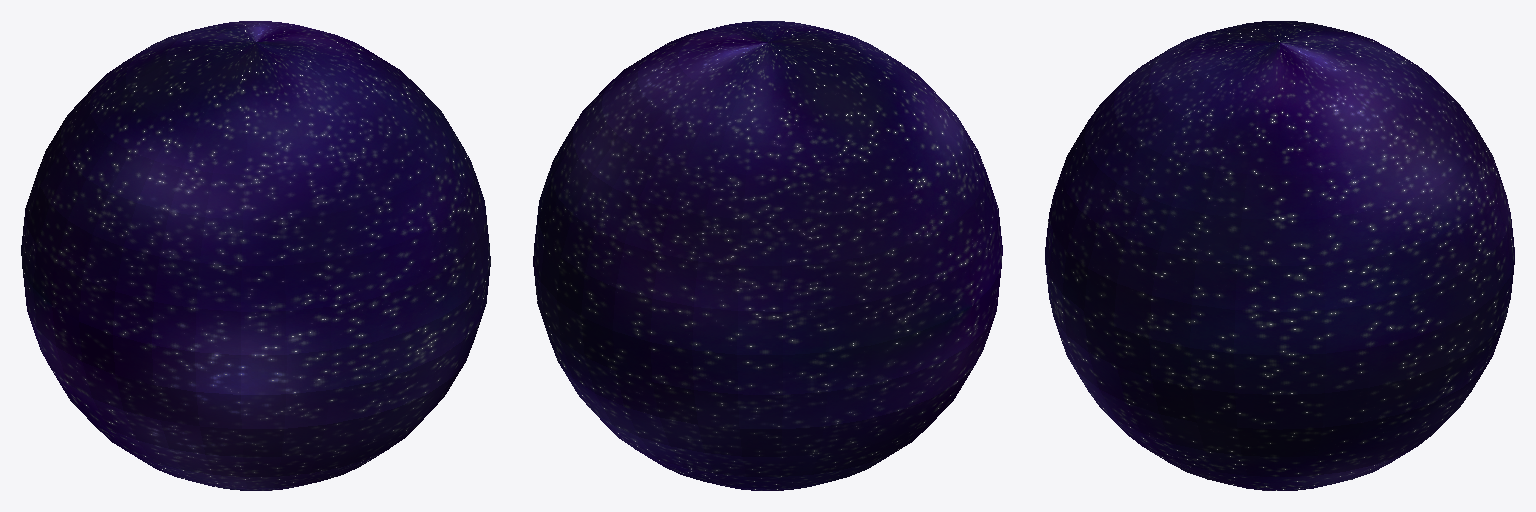
3 views of the same model, side by side, from view 1: azimuth 30°, elevation 25°; view 2: azimuth 150°, elevation 25°; view 3: azimuth 270°, elevation 25° (orthographic).
Parts seen in each view (by area): view 1: 球; view 2: 球; view 3: 球.
Boxes of the visible parts, <box> form: 球: <box>21,21,490,490</box>; 球: <box>533,21,1002,490</box>; 球: <box>1045,21,1514,490</box>.
Bounding box in the file's own units: 20 × 20 × 20.
Materials: 1 (1 with a texture image).